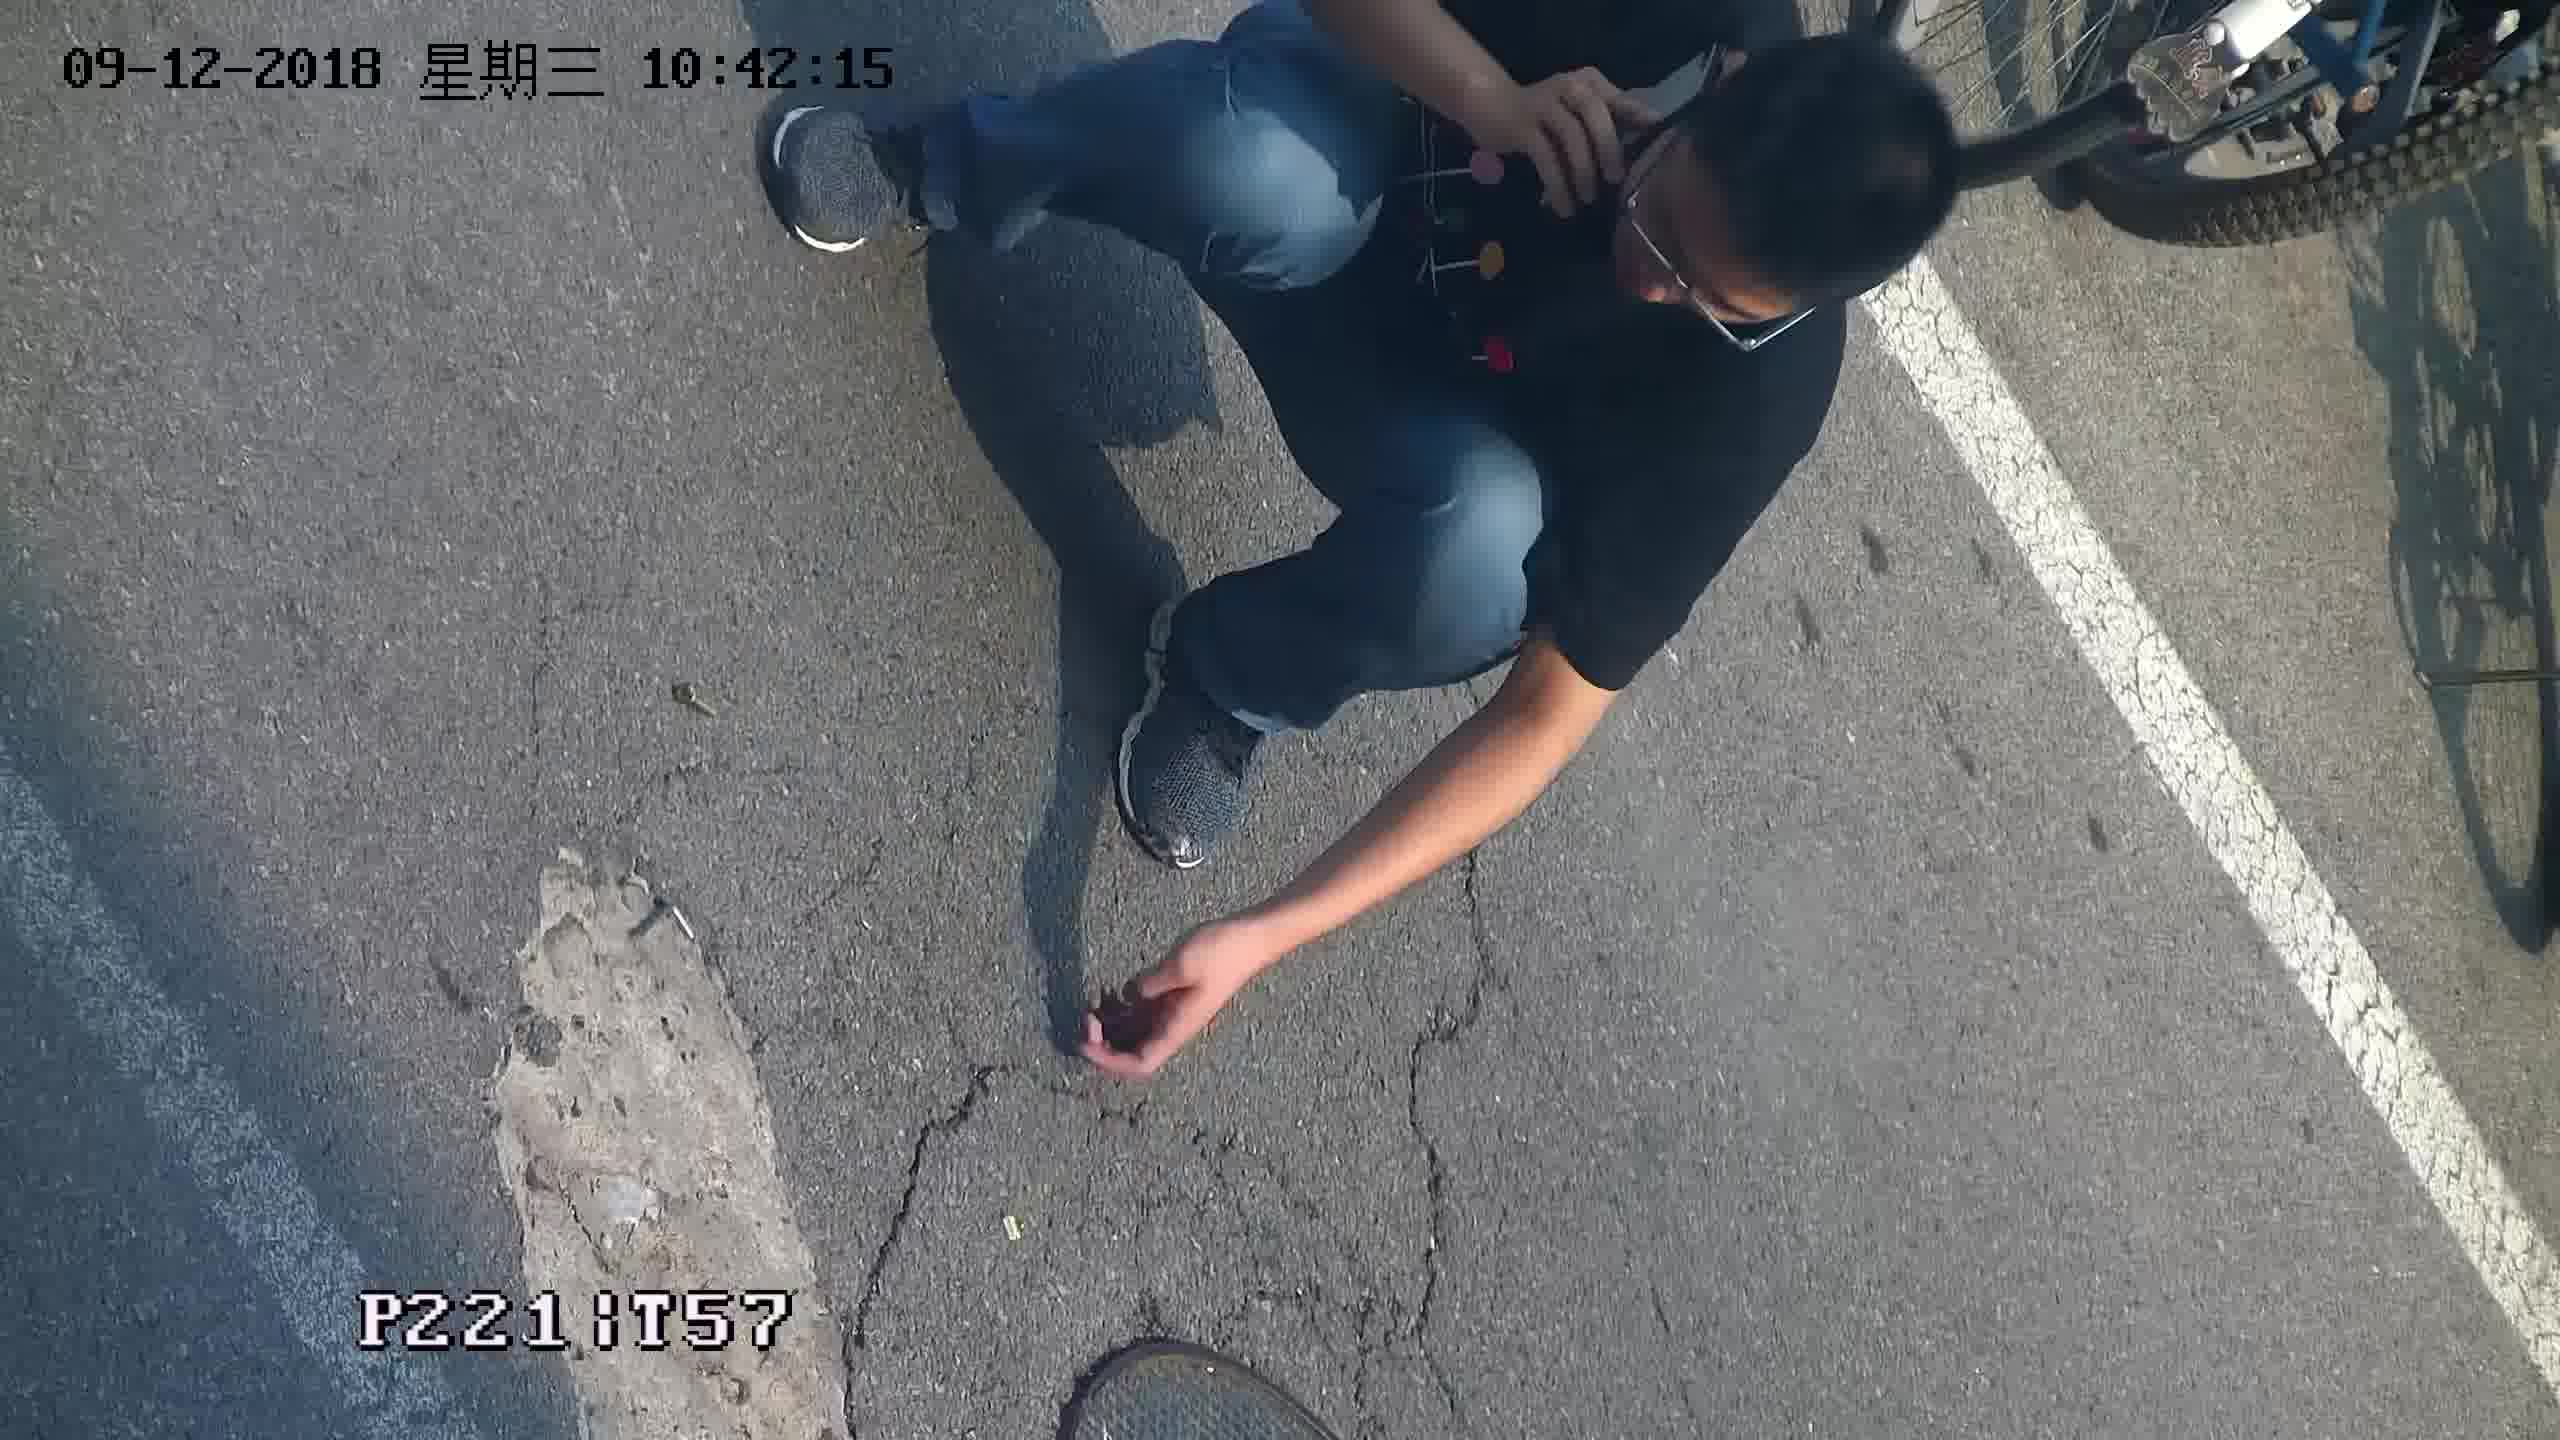L_stick: (624, 888, 709, 953)
clip_Y: (997, 1211, 1041, 1252)
nail: (665, 677, 723, 723)
